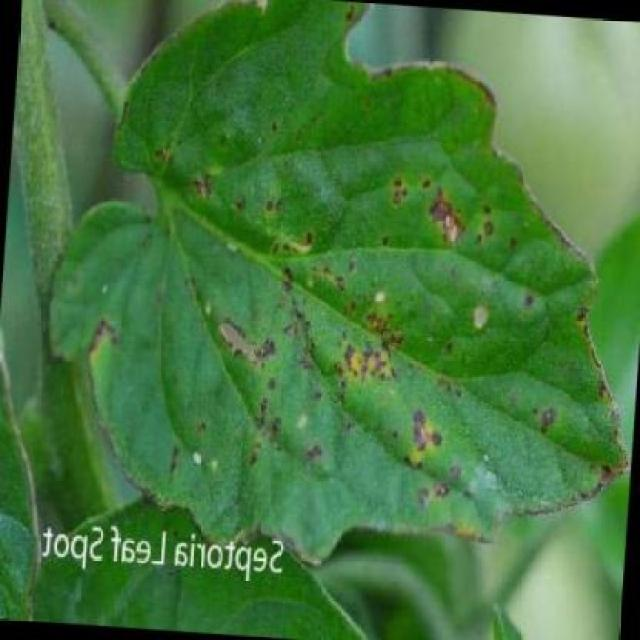Septoria leaf spot: (103, 0, 640, 546)
